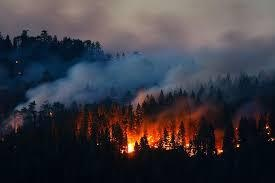fire: (120, 108, 199, 153)
